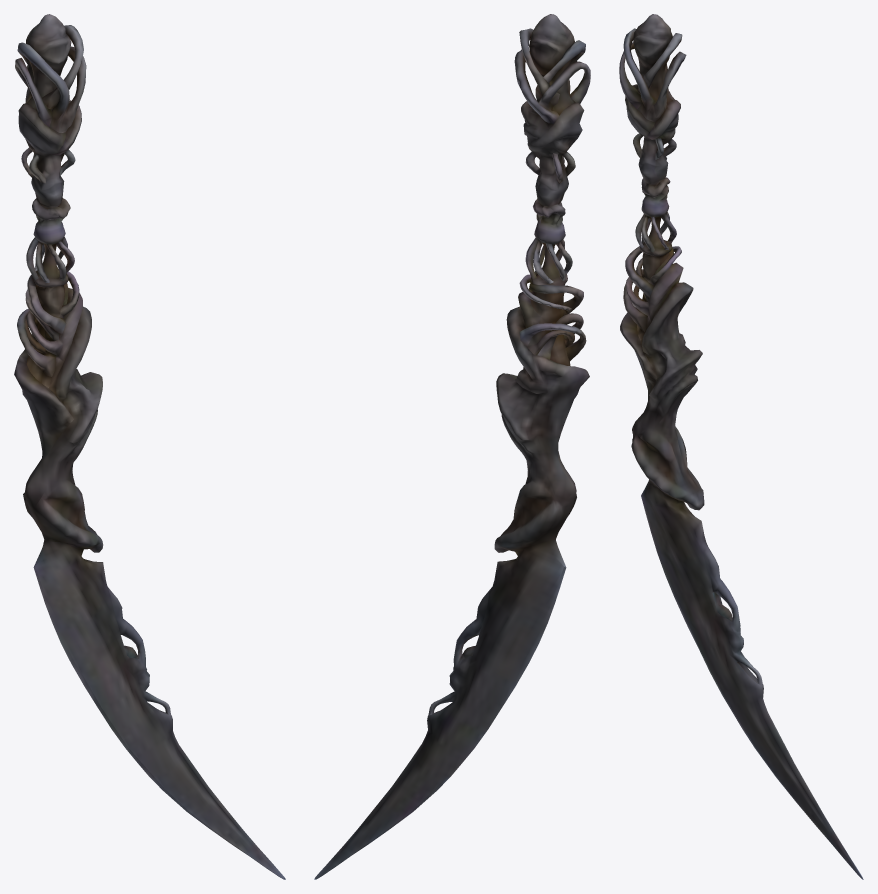
Rendered from weapon-wp_a_0426.glb.
The picture shows the model from 3 angles, left to right: view 1: azimuth 30°, elevation 25°; view 2: azimuth 150°, elevation 25°; view 3: azimuth 330°, elevation 25°; orthographic projection. The views are drawn at different scales.
Visible parts, largest first — view 1: wp_a_0426_mesh; view 2: wp_a_0426_mesh; view 3: wp_a_0426_mesh.
Boxes of the visible parts, <box> form: wp_a_0426_mesh: <box>14,14,285,879</box>; wp_a_0426_mesh: <box>314,14,590,879</box>; wp_a_0426_mesh: <box>619,14,863,879</box>.
Bounding box in the file's own units: 0.2354 × 0.7644 × 0.0532.
Materials: 1 (1 with a texture image).
